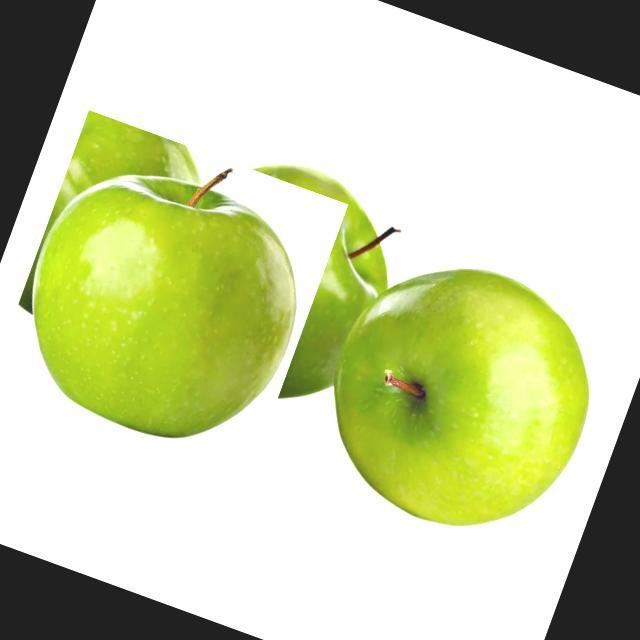Green Apple: (24, 151, 590, 526), (18, 110, 201, 315), (252, 164, 397, 400)
Red Apple: (29, 168, 298, 439), (333, 268, 590, 527)
